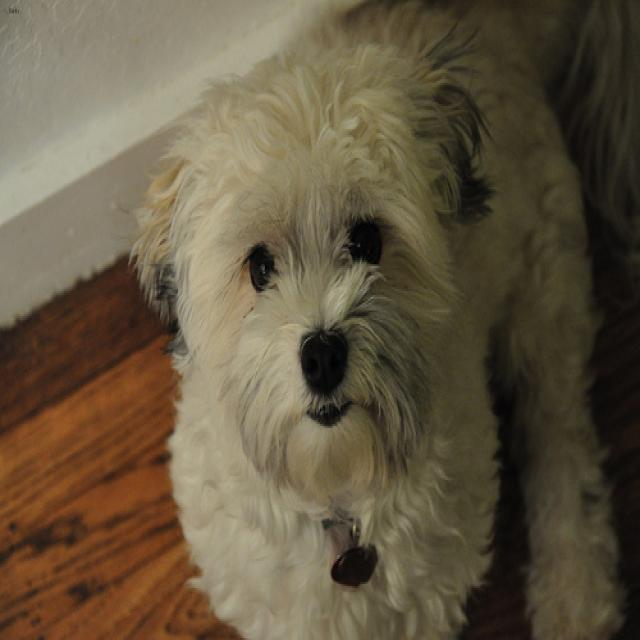dog-havanese: (125, 2, 637, 636)
